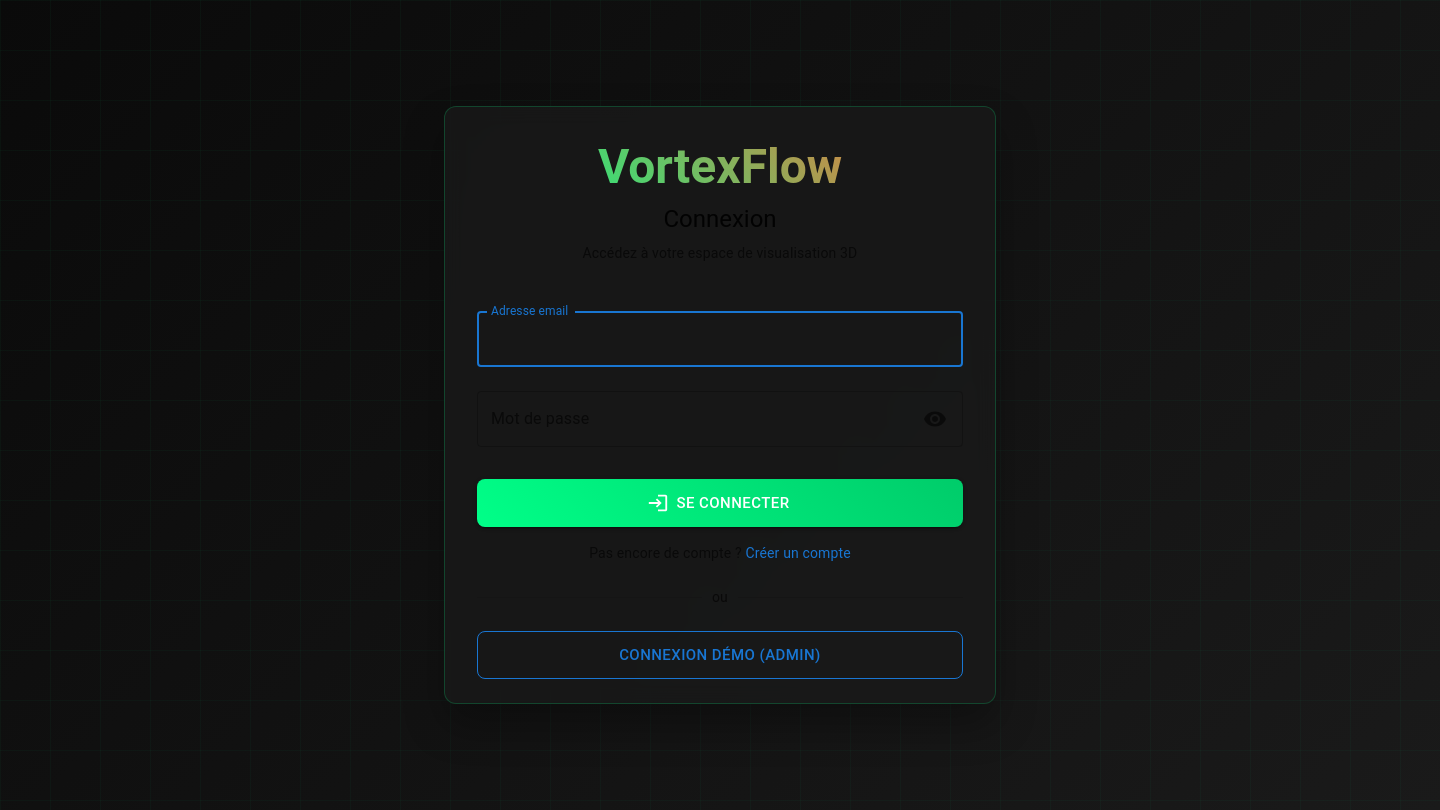
LoginPage — submission › typing clears the validation error for that field
The width and height of the screenshot is (1440, 810).
Click the button "Se connecter".
click(720, 503)  # box [477,479,963,527]
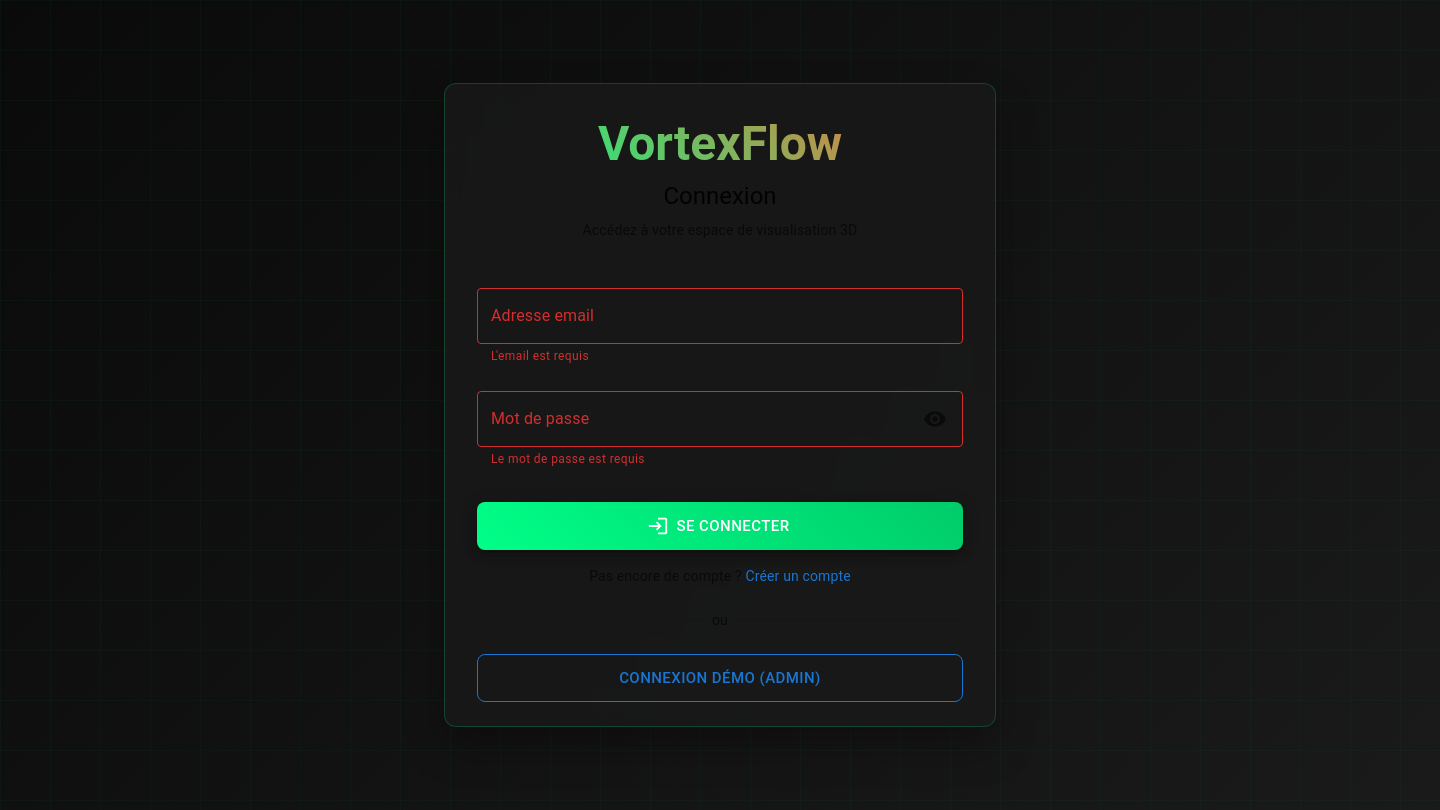
expect the text "L'email est requis" is shown: met, box [491,349,589,363]
Type "a@b.com" into the field labelled "Adresse email".
click(720, 316); type("a@b.com")  # box [477,288,963,344]
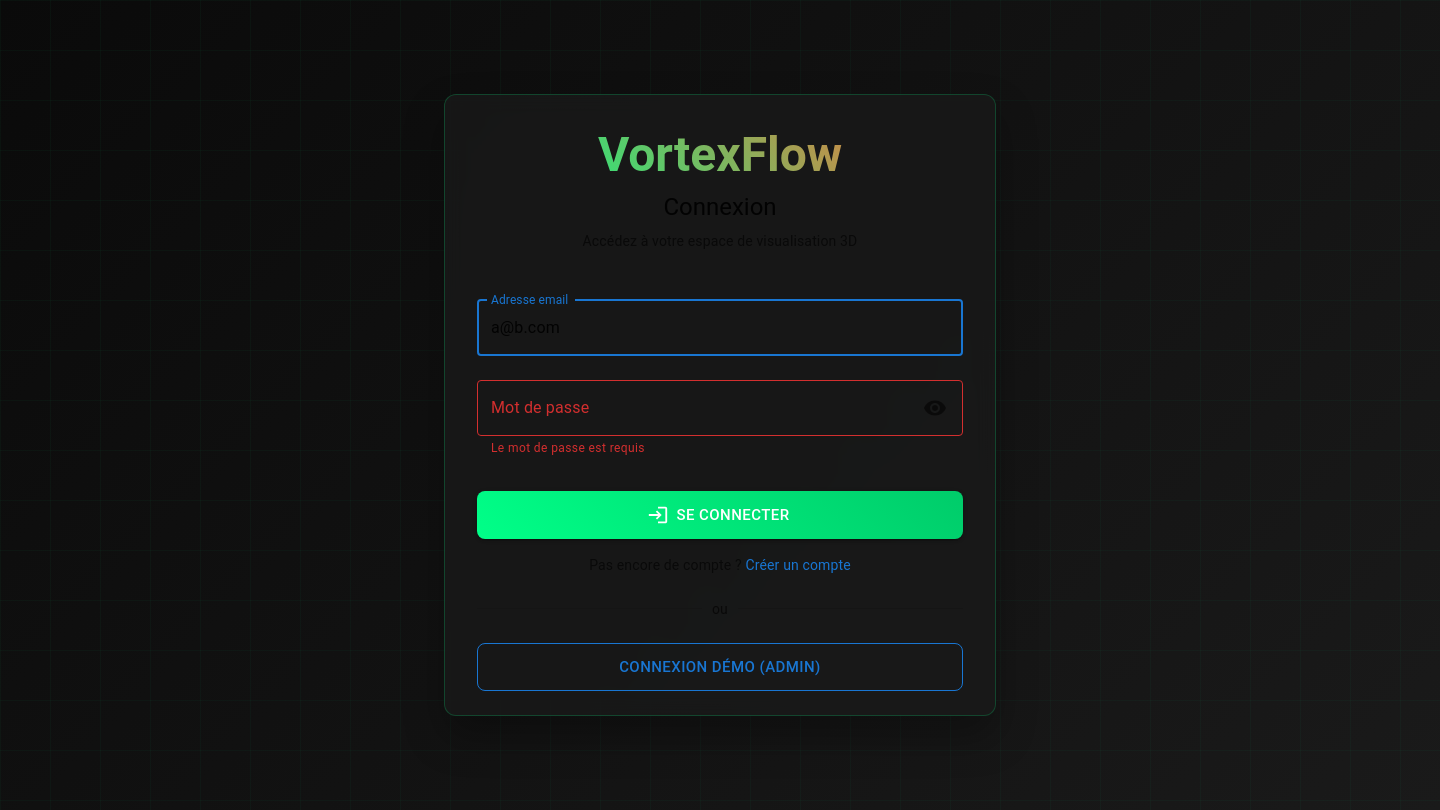
expect the text "L'email est requis" is gone: met
